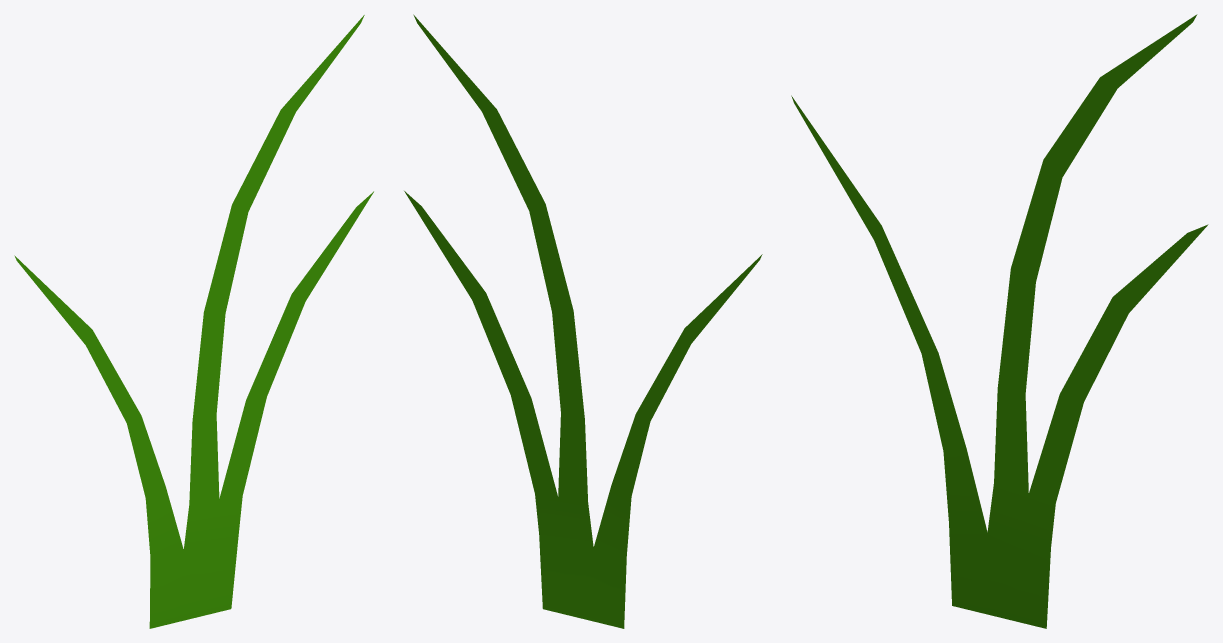
File: Grass_1.fbx
3 renders of one model, left to right at view 1: azimuth 30°, elevation 25°; view 2: azimuth 150°, elevation 25°; view 3: azimuth 330°, elevation 25°, orthographic. The views are drawn at different scales.
Parts seen in each view (by area): view 1: Grass_1; view 2: Grass_1; view 3: Grass_1.
Part boxes in pixels (x1,y1,x2,y2): Grass_1: [14, 15, 373, 628]; Grass_1: [404, 14, 762, 628]; Grass_1: [791, 14, 1208, 628].
Bounding box in the file's own units: 0.6947 × 1.04 × 0.00567.
